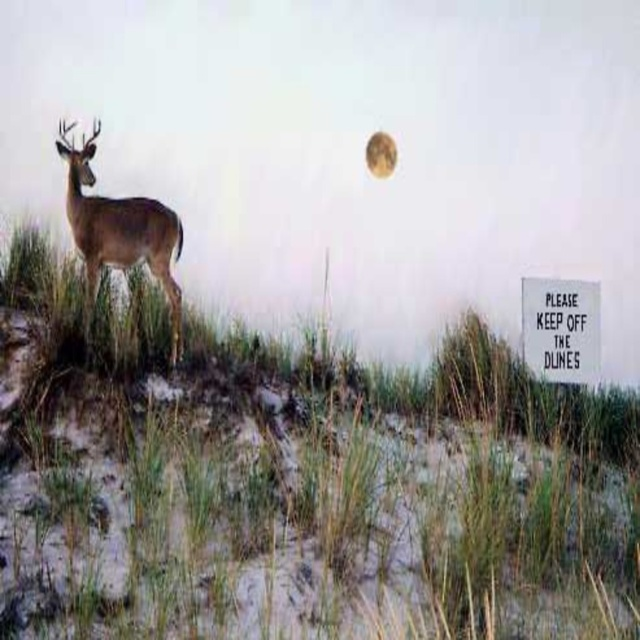Deer: (56, 119, 184, 372)
